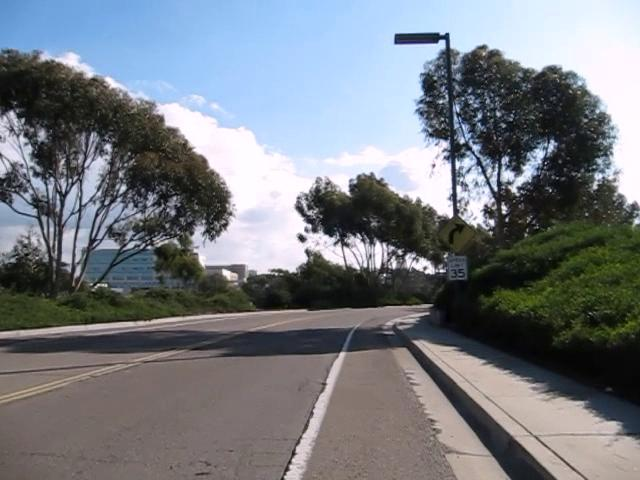speedLimit35: (446, 254, 468, 281)
